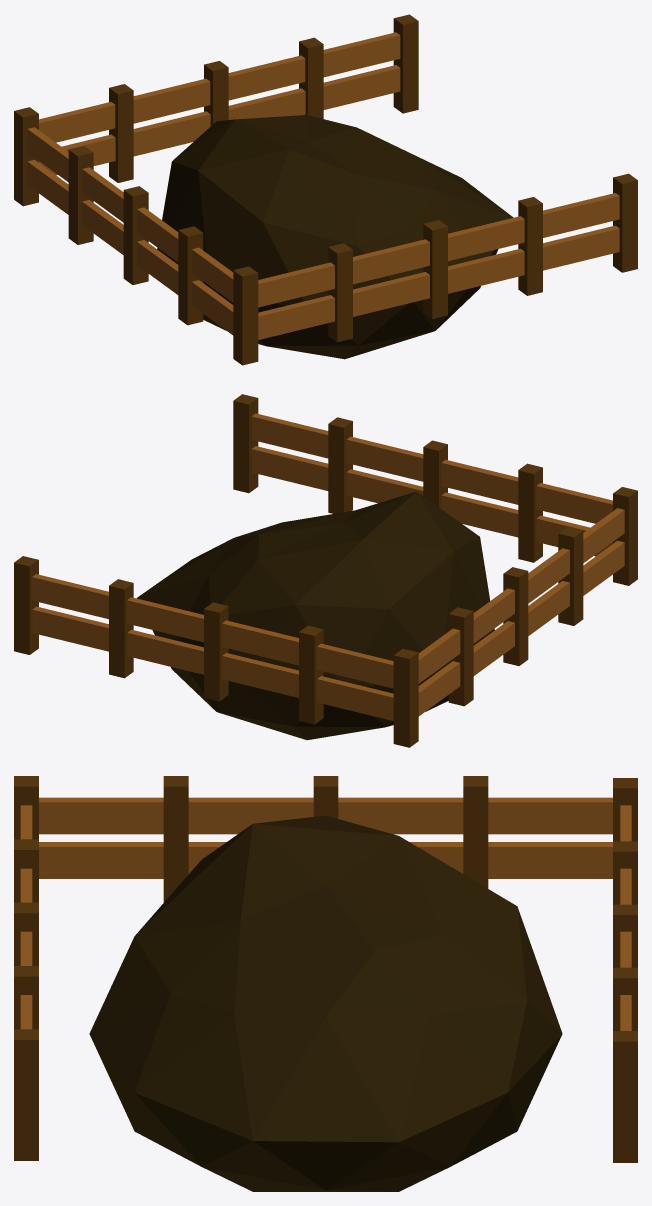
Rendered from Compost.fbx.
The picture shows the model from 3 angles, top to bottom: view 1: azimuth 30°, elevation 25°; view 2: azimuth 150°, elevation 25°; view 3: azimuth 270°, elevation 25°; orthographic projection. The views are drawn at different scales.
Visible parts, largest first — view 1: Cube.036; view 2: Cube.036; view 3: Cube.036.
Part boxes in pixels (x1,y1,x2,y2): Cube.036: (14,14,637,365); Cube.036: (14,394,637,747); Cube.036: (14,776,637,1191).
Bounding box in the file's own units: 417 × 223 × 417.
